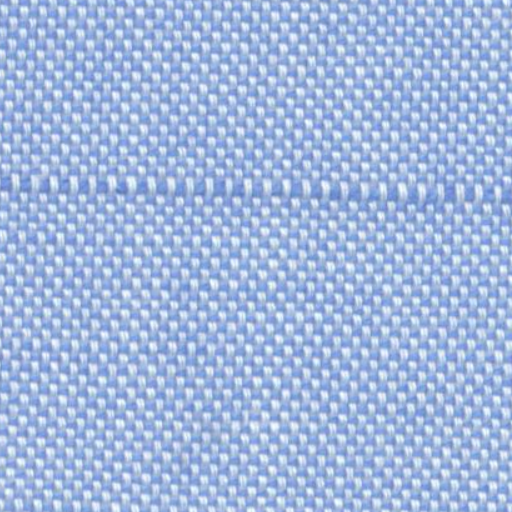DaiSha: (14, 154, 500, 214)
